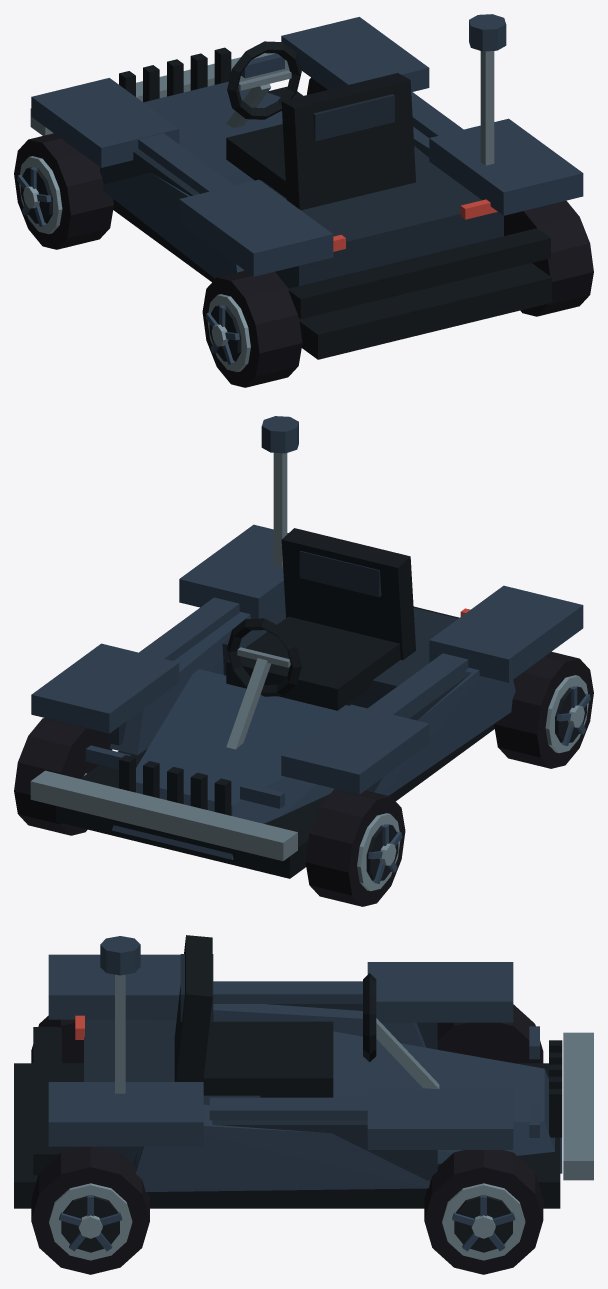
The model's file is kart.glb.
3 views of the same model, one above another, from view 1: azimuth 30°, elevation 25°; view 2: azimuth 150°, elevation 25°; view 3: azimuth 270°, elevation 25° (orthographic). The views are drawn at different scales.
Parts seen in each view (by area): view 1: chassis, wheel-rear-left, wheel-front-left, wheel-rear-right; view 2: chassis, wheel-front-left, wheel-rear-left, wheel-front-right; view 3: chassis, wheel-rear-right, wheel-front-right, wheel-front-left, wheel-rear-left.
Part boxes in pixels (bbox=[...]): chassis: bbox=[30, 14, 583, 359]; wheel-rear-left: bbox=[202, 270, 302, 387]; wheel-front-left: bbox=[14, 133, 113, 249]; wheel-rear-right: bbox=[504, 200, 593, 316]; chassis: bbox=[30, 416, 583, 878]; wheel-front-left: bbox=[305, 789, 405, 906]; wheel-rear-left: bbox=[494, 651, 593, 768]; wheel-front-right: bbox=[14, 718, 112, 835]; chassis: bbox=[14, 935, 593, 1208]; wheel-rear-right: bbox=[31, 1146, 149, 1274]; wheel-front-right: bbox=[424, 1150, 543, 1274]; wheel-front-left: bbox=[437, 1004, 543, 1063]; wheel-rear-left: bbox=[31, 1015, 83, 1063].
Bounding box in the file's own units: 2.27 × 1.72 × 3.02.
